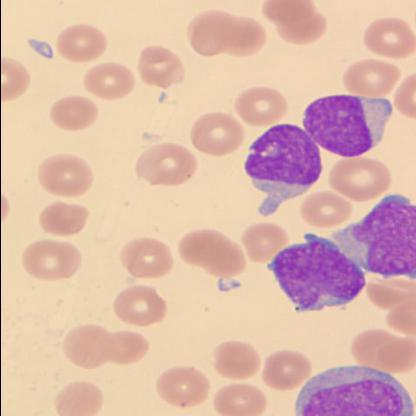Promyelocyte: (266, 235, 368, 316), (235, 121, 318, 210), (331, 198, 415, 280), (291, 365, 415, 415), (297, 92, 392, 154)
